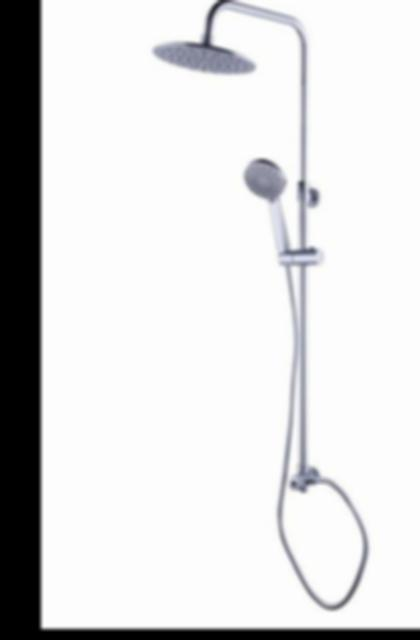Ducha: (149, 0, 391, 616)
